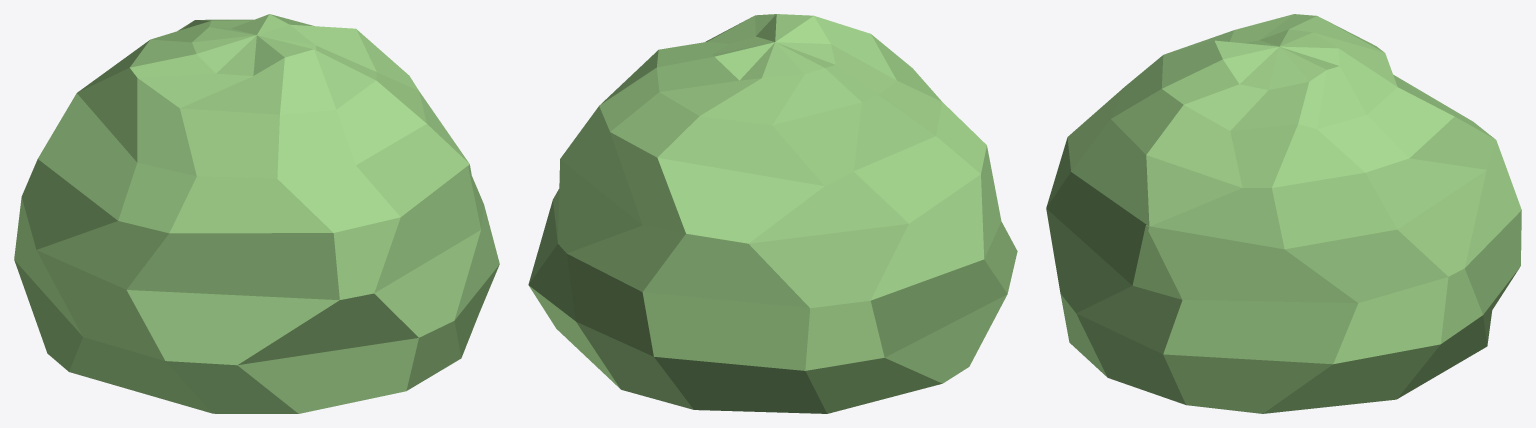
The model's file is lp_bush_round.glb.
3 renders of one model, left to right at view 1: azimuth 30°, elevation 25°; view 2: azimuth 150°, elevation 25°; view 3: azimuth 270°, elevation 25°, orthographic. The views are drawn at different scales.
Visible parts, largest first — view 1: lp_bush_round; view 2: lp_bush_round; view 3: lp_bush_round.
Part boxes in pixels (x1,y1,x2,y2): lp_bush_round: (14, 14, 499, 413); lp_bush_round: (528, 14, 1017, 413); lp_bush_round: (1046, 14, 1521, 413).
Bounding box in the file's own units: 0.6342 × 0.42 × 0.6463.
